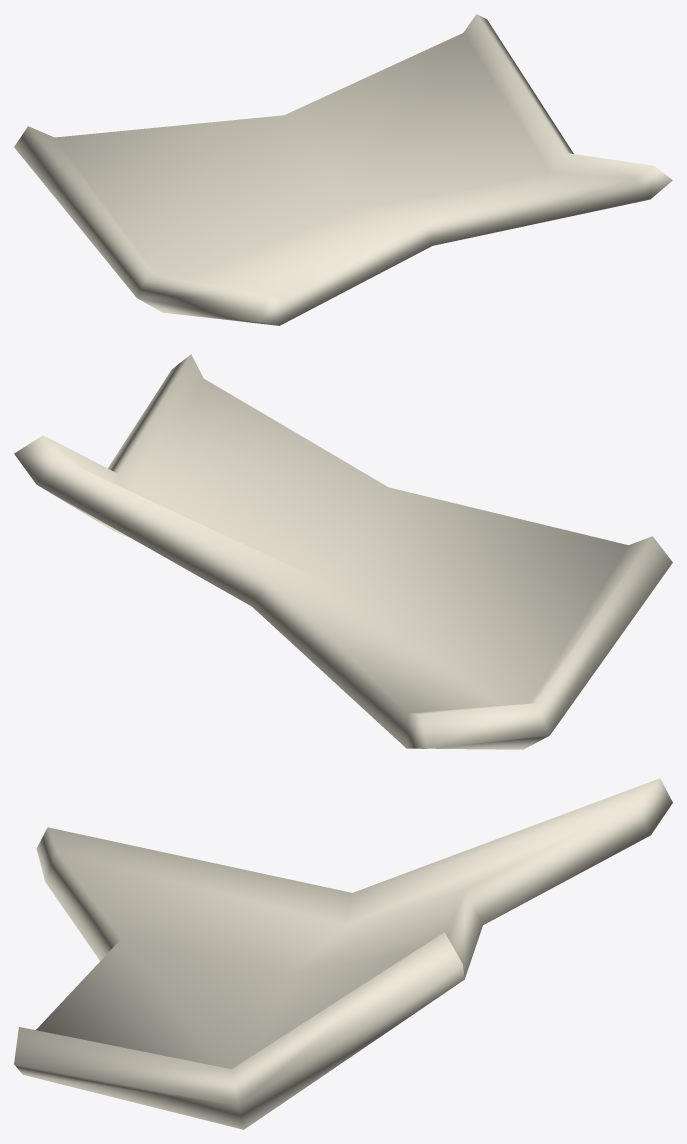
3 views of the same model, one above another, from view 1: azimuth 30°, elevation 25°; view 2: azimuth 150°, elevation 25°; view 3: azimuth 270°, elevation 25° (orthographic). The views are drawn at different scales.
Visible parts, largest first — view 1: ZA_61dfdb6f27826ea7; view 2: ZA_61dfdb6f27826ea7; view 3: ZA_61dfdb6f27826ea7.
Part boxes in pixels (bbox=[...]): ZA_61dfdb6f27826ea7: bbox=[14, 14, 672, 325]; ZA_61dfdb6f27826ea7: bbox=[14, 354, 672, 749]; ZA_61dfdb6f27826ea7: bbox=[14, 778, 672, 1129].
Bounding box in the file's own units: 0.00888 × 0.00373 × 0.00816.
